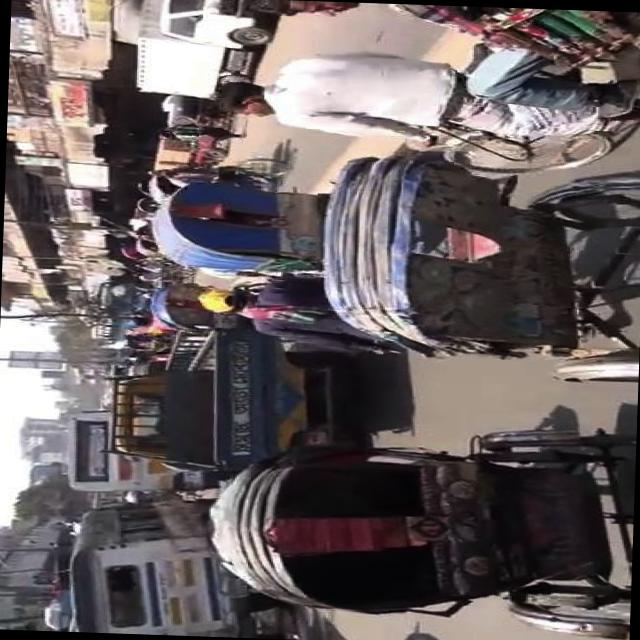bus: (64, 496, 271, 638), (61, 404, 216, 497), (82, 278, 154, 344)
motorcycle: (197, 414, 632, 640), (291, 148, 640, 388), (257, 1, 640, 179), (140, 180, 334, 280), (143, 152, 287, 208), (142, 281, 240, 334)
truck: (94, 322, 360, 478), (123, 0, 275, 105)
